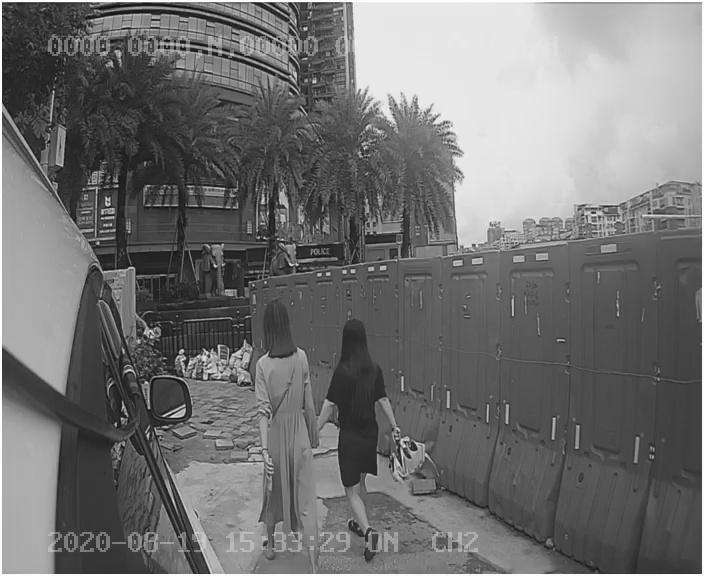person: (309, 308, 424, 523), (234, 298, 323, 531)
